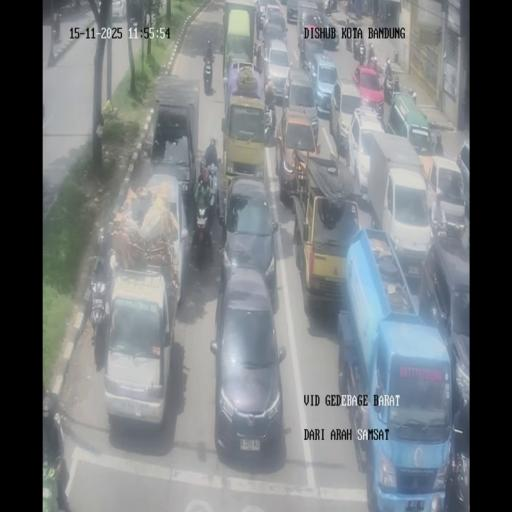car: (210, 269, 286, 464), (102, 268, 176, 432), (219, 176, 279, 300), (425, 155, 466, 236), (387, 91, 433, 155), (281, 63, 318, 139), (332, 80, 365, 154), (297, 14, 326, 65), (261, 19, 287, 58), (95, 0, 125, 20), (254, 0, 270, 29), (126, 0, 144, 25), (285, 0, 299, 24)
motorcycle: (88, 262, 112, 350), (190, 202, 209, 268), (263, 95, 277, 143), (206, 162, 218, 204), (202, 56, 214, 94), (383, 72, 394, 106), (345, 21, 354, 52), (401, 85, 416, 103), (254, 44, 263, 74), (52, 12, 60, 44), (433, 132, 444, 154), (150, 0, 163, 17), (357, 40, 366, 63), (367, 44, 376, 66), (375, 96, 384, 118), (353, 1, 363, 17), (324, 1, 333, 16), (393, 76, 400, 93), (346, 0, 354, 14)
truck: (339, 234, 450, 508), (294, 160, 363, 316), (362, 134, 428, 256), (147, 80, 201, 219), (222, 1, 258, 81)
